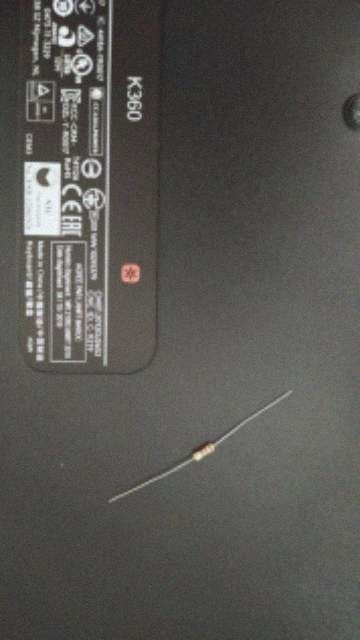resistor: (192, 444, 215, 461)
